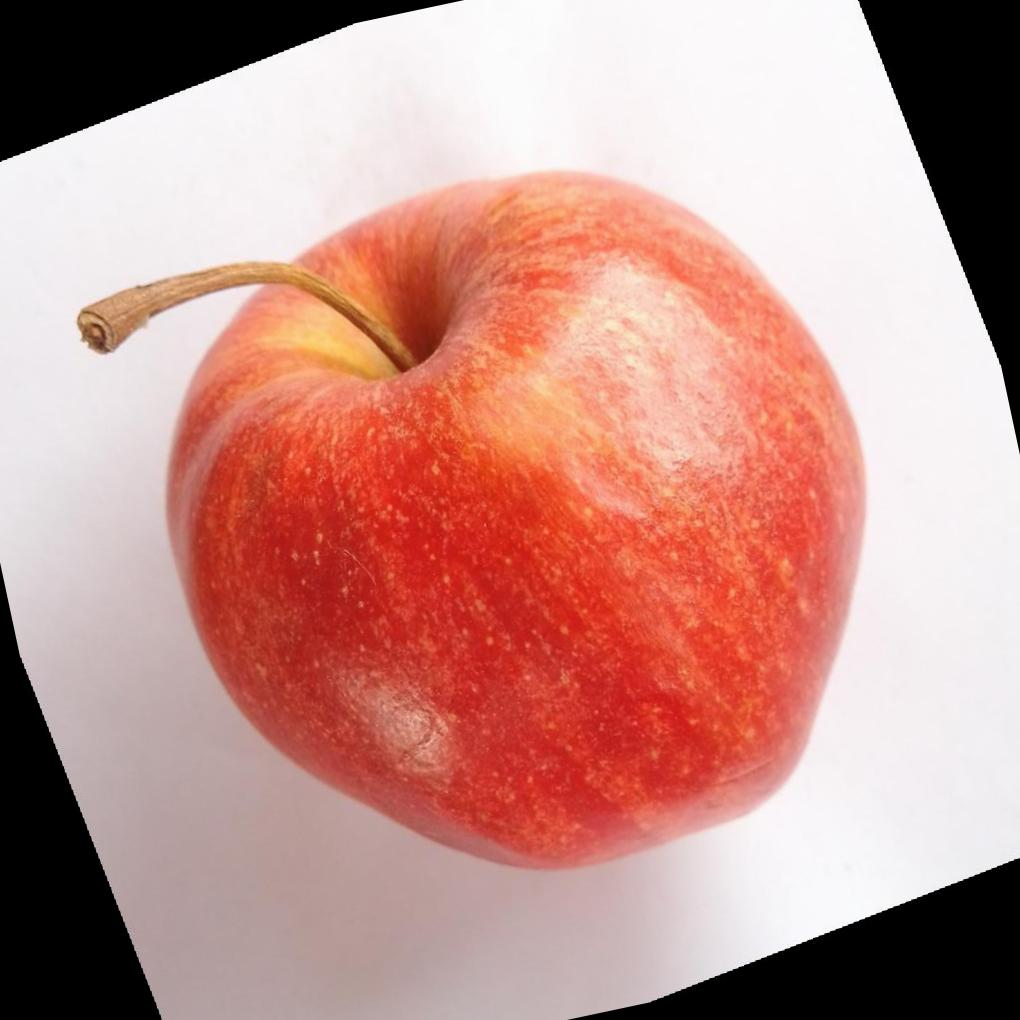FreshGuava: (77, 165, 873, 871)
